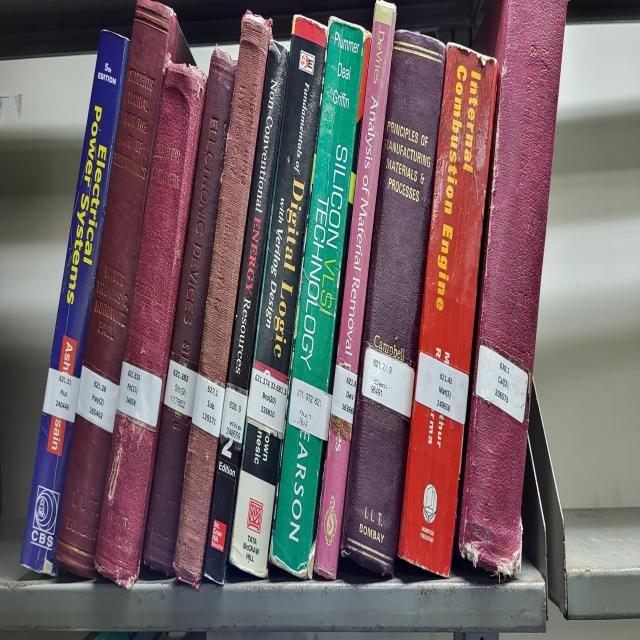Book: (56, 0, 194, 576), (458, 0, 566, 574), (21, 32, 129, 576), (95, 62, 206, 587), (341, 30, 446, 576), (230, 19, 328, 576), (399, 43, 498, 576), (270, 22, 364, 576), (144, 49, 236, 574), (314, 5, 395, 579), (199, 14, 271, 417), (174, 422, 220, 587)
Label: (475, 344, 528, 422), (415, 352, 469, 425), (361, 346, 415, 417), (246, 360, 288, 436), (118, 360, 162, 427), (76, 365, 119, 433), (289, 379, 331, 441), (192, 373, 225, 438), (42, 368, 80, 422), (164, 360, 198, 417), (331, 365, 358, 425), (221, 387, 248, 444)
